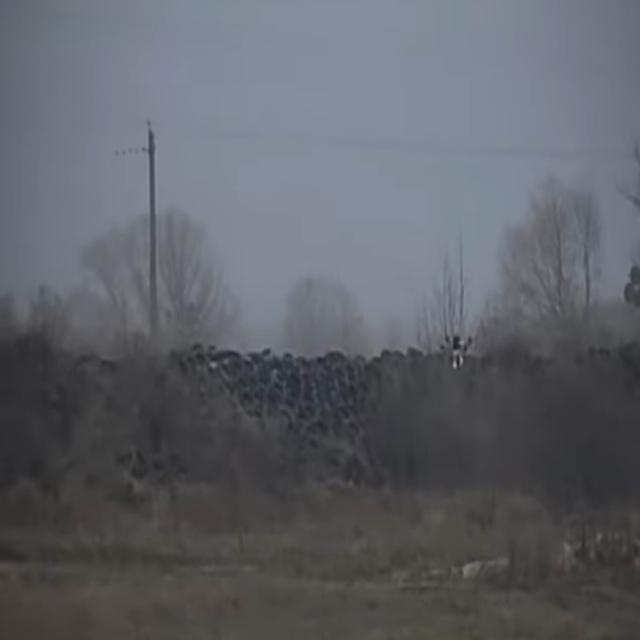drone: (438, 332, 476, 372)
